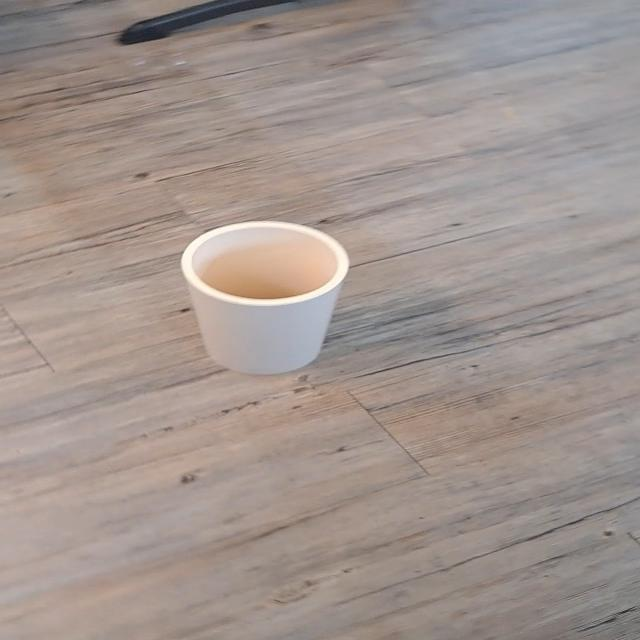CORAL: (149, 205, 395, 393)
